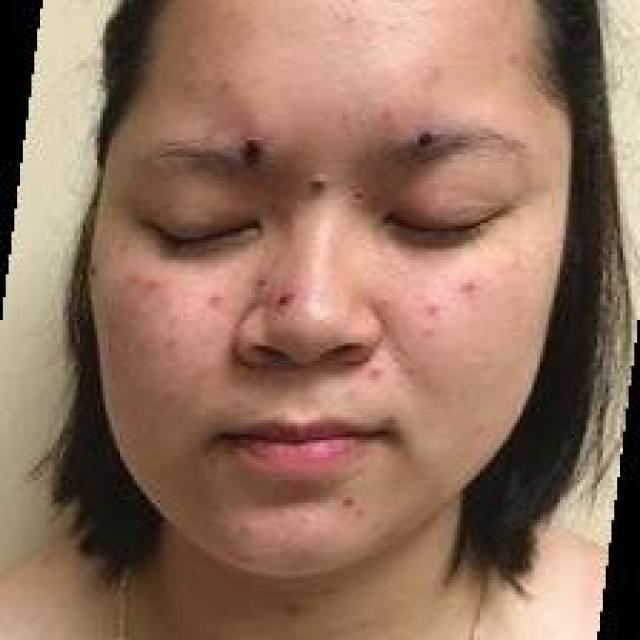others: (120, 56, 530, 590)
